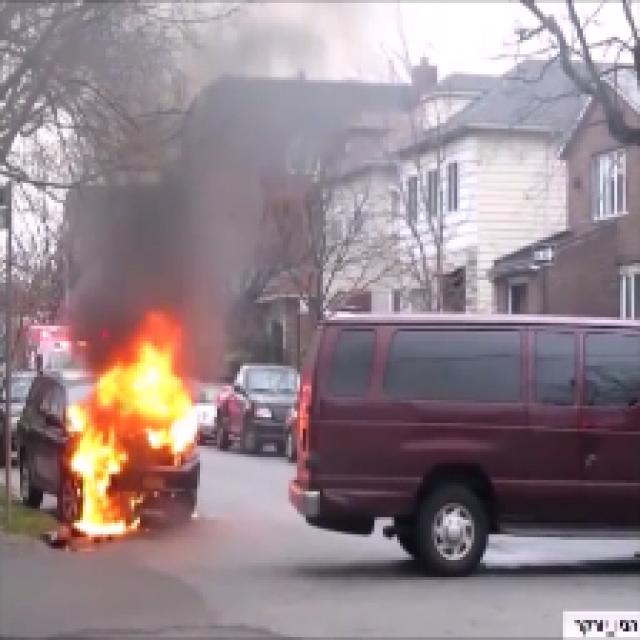fire: (63, 346, 198, 541)
smoke: (98, 186, 244, 333), (200, 88, 301, 182)
